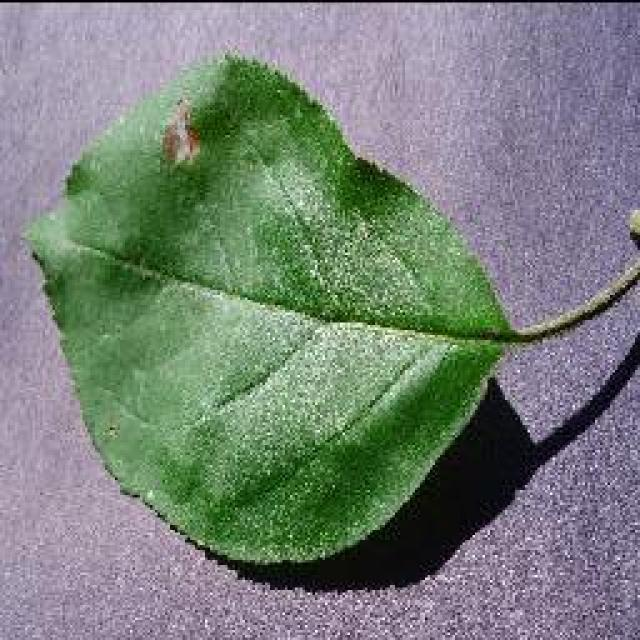Black_rot: (18, 48, 638, 570)
